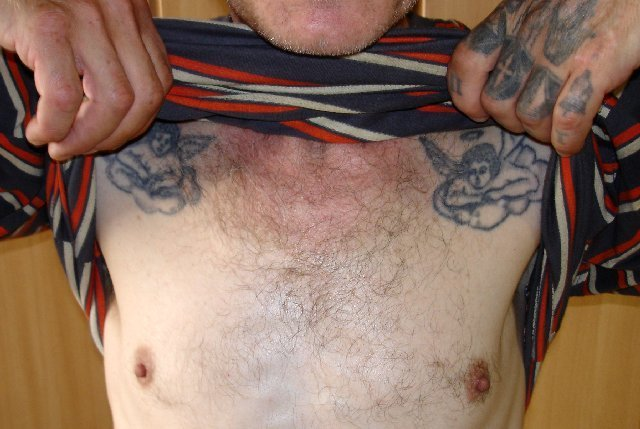tatu1_angel: (400, 124, 547, 228), (104, 116, 219, 221)
